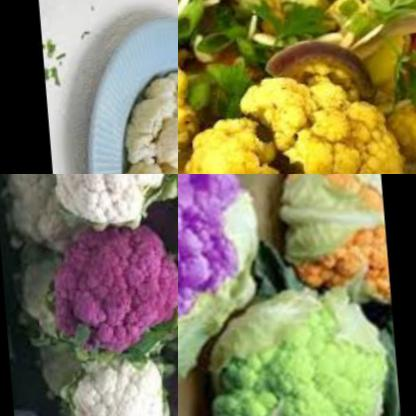cayliflower: (195, 278, 391, 416), (178, 56, 392, 174), (178, 174, 267, 400), (42, 218, 178, 363), (271, 174, 387, 321), (47, 344, 178, 416), (103, 62, 178, 174), (45, 174, 178, 237), (0, 174, 88, 263), (178, 31, 208, 171)
